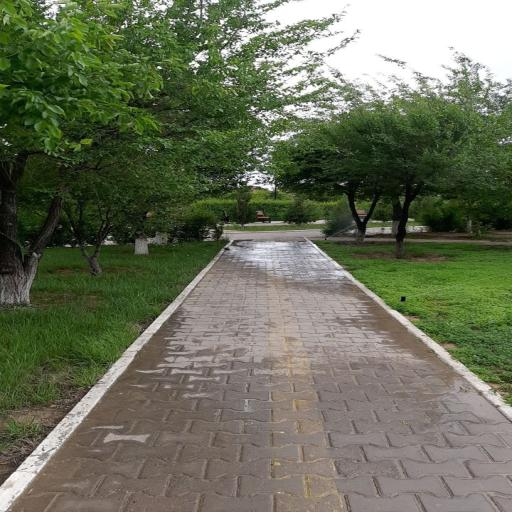shelf: (3, 224, 511, 512)
